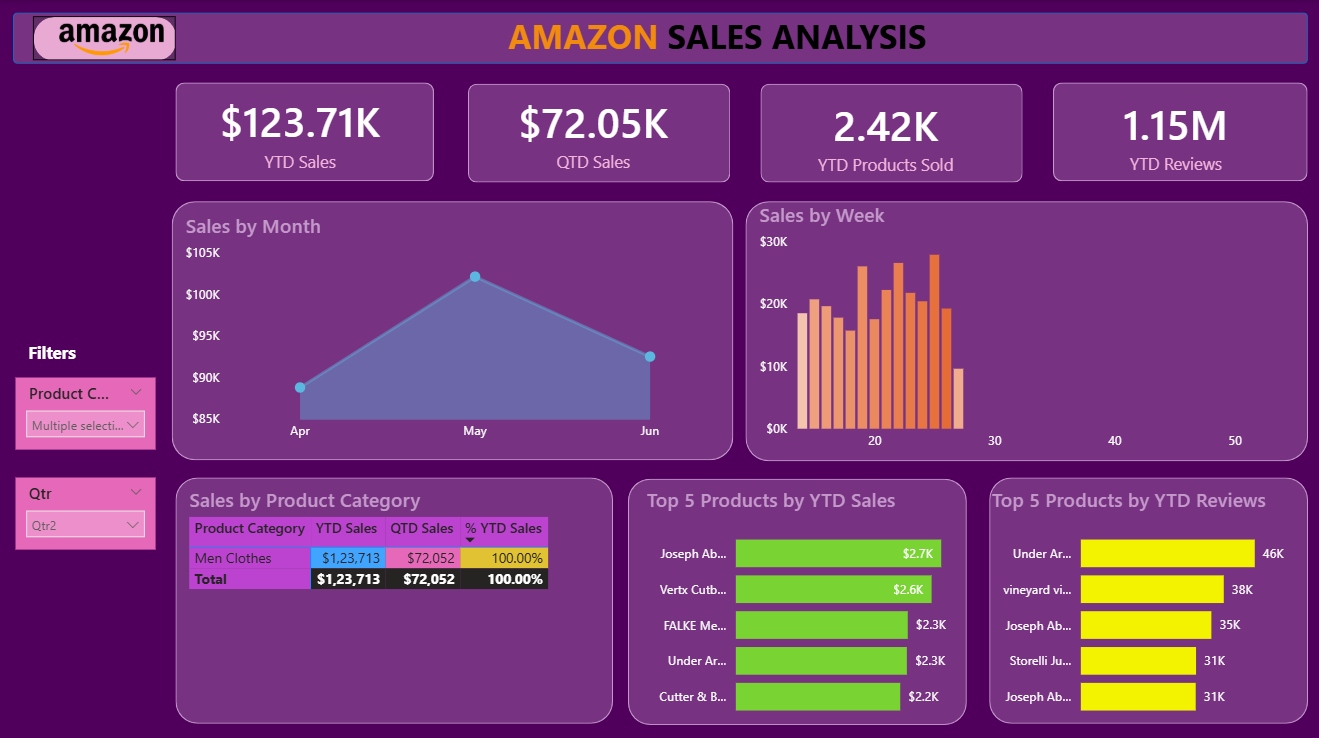

This screenshot's page, from the dashboard's own definition file:
{"tool":"powerbi","page":{"name":"Page 1","canvas":[1280,720],"ordinal":0},"visuals":[{"type":"shape","box":[14.5,12.1,1249.9,49.5],"z":0},{"type":"textbox","box":[331.8,9.7,634.6,60.3],"z":1000},{"type":"shape","box":[33.8,15.7,137.5,42.2],"z":2000},{"type":"shape","box":[171.3,79.6,249.4,95.3],"z":3000,"group":"g1"},{"type":"shape","box":[167.7,194.2,542,250],"z":3000},{"type":"card","fields":{"Values":["Amazon_Data.YTD Sales"]},"box":[171.3,79.6,240.9,95.3],"z":4000,"group":"g1"},{"type":"group","id":"g1","title":"Group 1","box":[171.3,79.6,1093,98.9],"z":4000},{"type":"shape","box":[453.7,80.8,253.1,95.3],"z":5000,"group":"g1"},{"type":"areaChart","title":"Sales by Month","fields":{"Category":["Date Table.Column Name"],"Y":["Amazon_Data.Price(Dollar)"]},"box":[176.1,205.1,526,229.2],"z":5000},{"type":"card","fields":{"Values":["Amazon_Data.QTD Sales"]},"box":[451.3,80.8,247,94.1],"z":6000,"group":"g1"},{"type":"shape","box":[721.5,194.2,542.9,250.9],"z":6000},{"type":"shape","box":[736.2,80.8,253.1,95.3],"z":7000,"group":"g1"},{"type":"columnChart","title":"Sales by Week","fields":{"Category":["Date Table.Week"],"Y":["Amazon_Data.Price(Dollar)"]},"box":[729.9,194.2,534.5,249.7],"z":7000},{"type":"shape","box":[1018.6,79.6,245.7,95.3],"z":8000,"group":"g1"},{"type":"shape","box":[171.3,460.9,422.3,237.7],"z":8000},{"type":"card","fields":{"Values":["Amazon_Data.YTD Products Sold"]},"box":[734.9,83.2,244.5,95.3],"z":9000,"group":"g1"},{"type":"pivotTable","title":"Sales by Product Category","fields":{"Rows":["Amazon_Data.Product Category"],"Values":["Amazon_Data.YTD Sales1","Amazon_Data.QTD Sales","Amazon_Data.YTD Sales"]},"box":[179.8,469.3,413.8,229.2],"z":9000},{"type":"card","fields":{"Values":["Amazon_Data.YTD Reviews"]},"box":[1018.6,83.2,237.2,92.9],"z":10000,"group":"g1"},{"type":"shape","box":[608,462.1,326.9,237.7],"z":10000},{"type":"shape","box":[956.7,460.9,307.6,237.7],"z":11000},{"type":"barChart","title":"Top 5 Products by YTD Sales","fields":{"Category":["Amazon_Data.Product Description"],"Y":["Amazon_Data.YTD Sales"]},"box":[621.3,469.3,313.7,236.5],"z":12000},{"type":"barChart","title":"Top 5 Products by YTD Reviews","fields":{"Category":["Amazon_Data.Product Description"],"Y":["Amazon_Data.YTD Reviews"]},"box":[954.3,469.3,313.7,236.5],"z":13000},{"type":"slicer","fields":{"Values":["Amazon_Data.Product Category"]},"box":[16.9,364.3,135.1,70],"z":14000},{"type":"slicer","fields":{"Values":["Date Table.Qtr"]},"box":[16.9,460.9,135.1,70],"z":15000},{"type":"image","box":[54.3,15.7,111,44.6],"z":16000},{"type":"textbox","box":[24.1,324.5,60.3,35],"z":16001}]}

Visuals, with their boxes in screenshot pixels (x1, y1, x2, y2), scaled from the page's 1280x720 canvas onto the 1319x738 screenshot:
shape: [15,12,1303,63]
textbox: [342,10,996,72]
shape: [35,16,177,59]
shape: [177,82,434,179]
shape: [173,199,731,455]
card - Amazon_Data.YTD Sales: [177,82,425,179]
"Group 1" group: [177,82,1303,183]
shape: [468,83,728,181]
"Sales by Month" areaChart: [181,210,723,445]
card - Amazon_Data.QTD Sales: [465,83,720,179]
shape: [743,199,1303,456]
shape: [759,83,1019,181]
"Sales by Week" columnChart: [752,199,1303,455]
shape: [1050,82,1303,179]
shape: [177,472,612,716]
card - Amazon_Data.YTD Products Sold: [757,85,1009,183]
"Sales by Product Category" pivotTable: [185,481,612,716]
card - Amazon_Data.YTD Reviews: [1050,85,1294,181]
shape: [627,474,963,717]
shape: [986,472,1303,716]
"Top 5 Products by YTD Sales" barChart: [640,481,963,723]
"Top 5 Products by YTD Reviews" barChart: [983,481,1307,723]
slicer - Amazon_Data.Product Category: [17,373,157,445]
slicer - Date Table.Qtr: [17,472,157,544]
image: [56,16,170,62]
textbox: [25,333,87,368]
